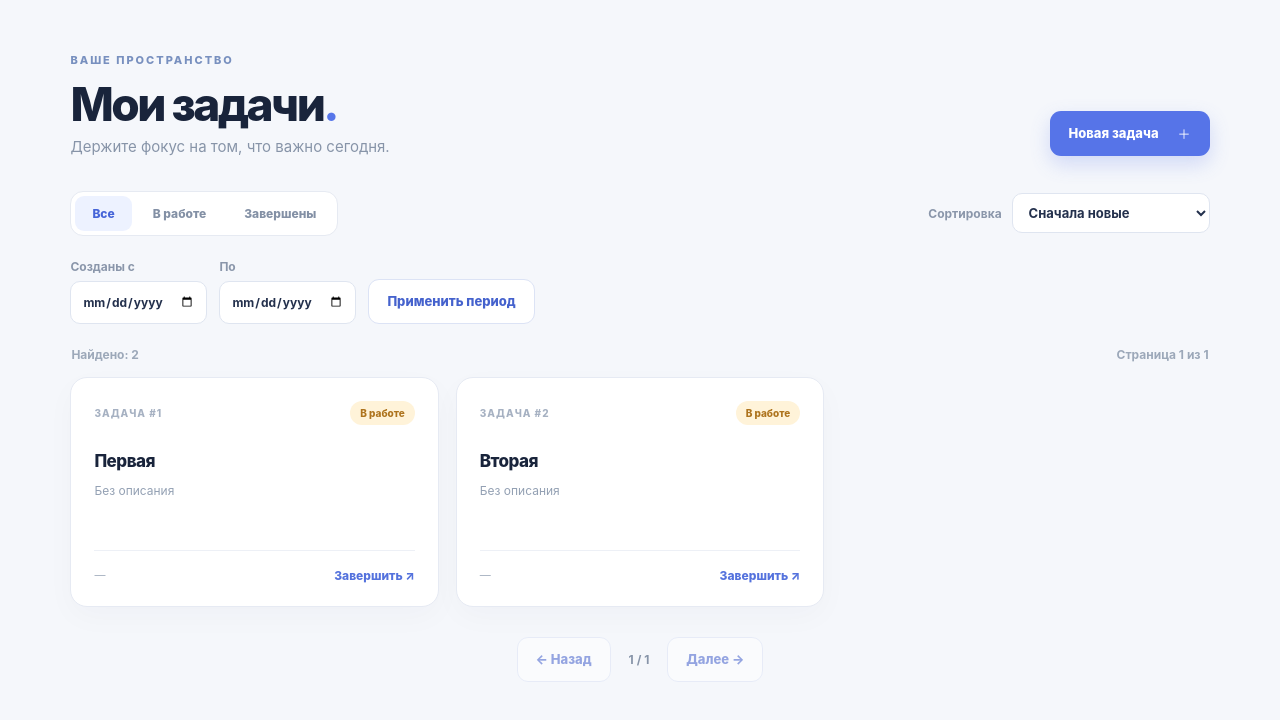
Test case: blocks all quick actions while a task update is pending
What coordinates should you click on to do the following:
click the button with aria-label "Завершить задачу Первая"
I would click on:
 (374, 575)
Its box is x1=334 y1=568 x2=415 y2=583.
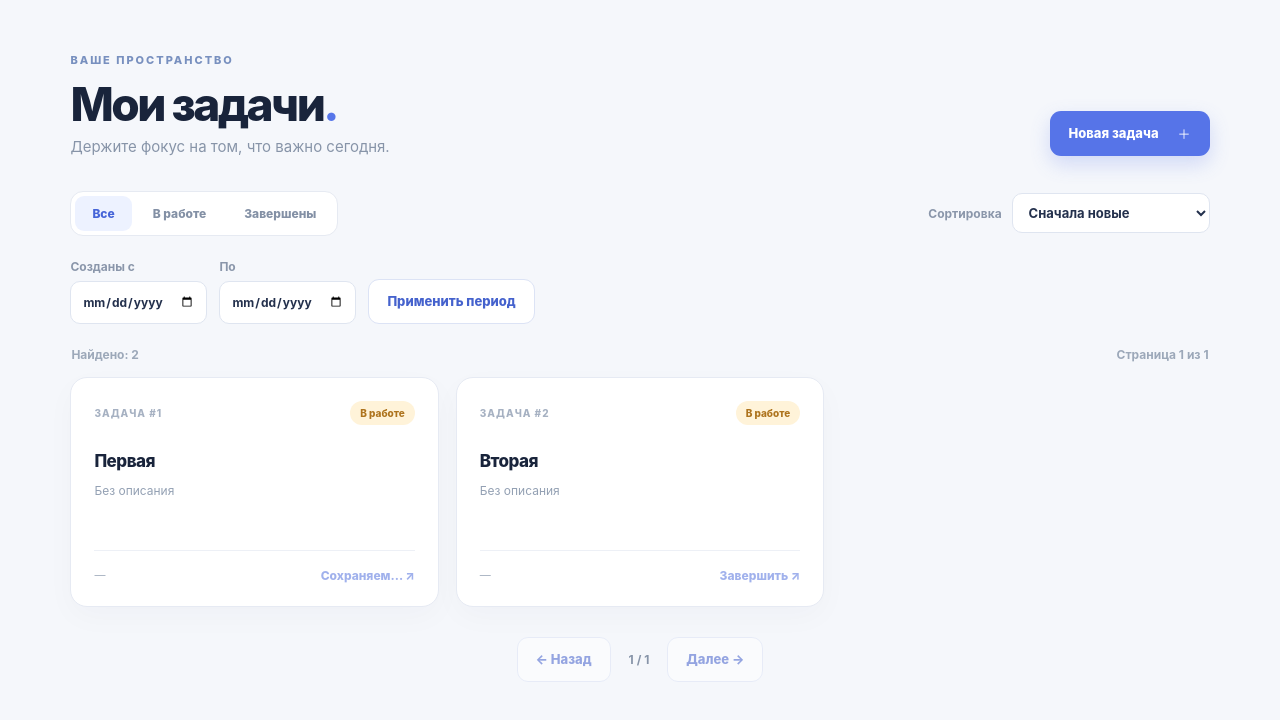
expect the button with aria-label "Завершить задачу Вторая" is disabled: met
What coordinates should you click on to do the following:
click the button with aria-label "Завершить задачу Вторая"
I would click on:
 (760, 575)
Its box is x1=720 y1=568 x2=800 y2=583.
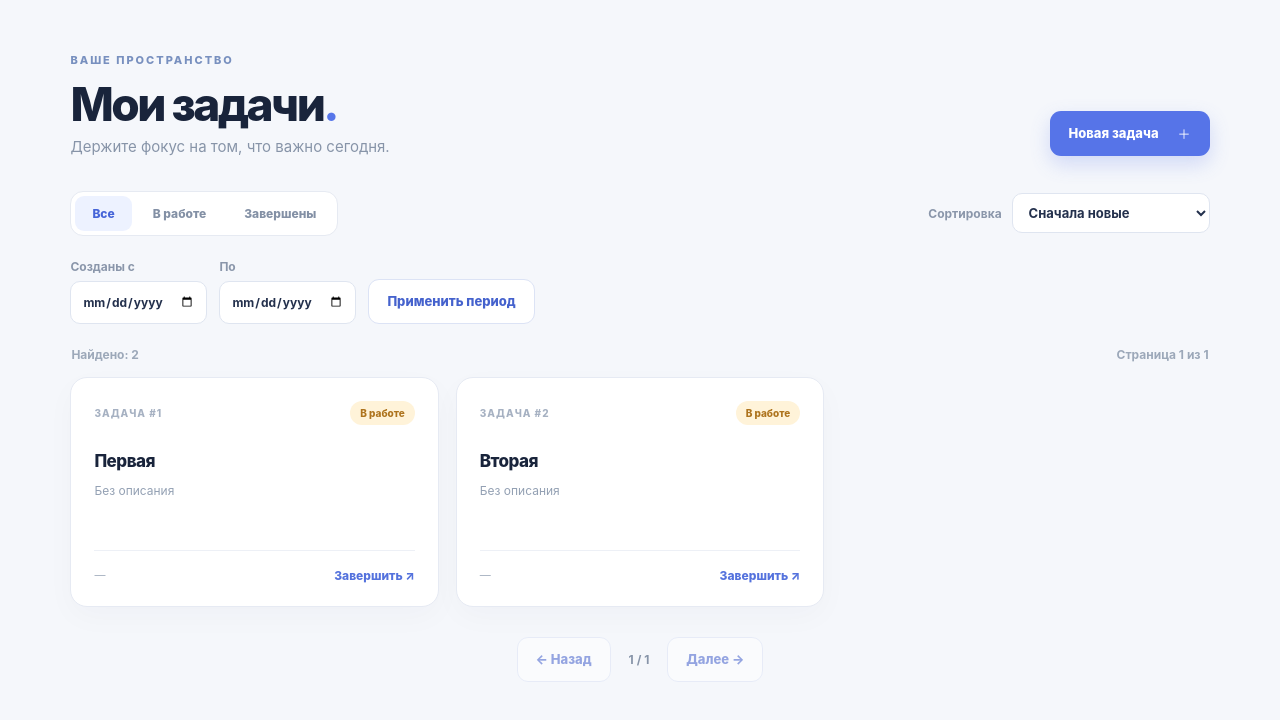
expect the button with aria-label "Завершить задачу Вторая" is enabled: met, box x1=720 y1=568 x2=800 y2=583
